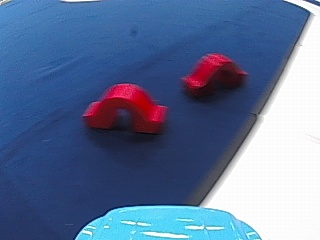bridge: (78, 79, 171, 133), (175, 49, 246, 100)
